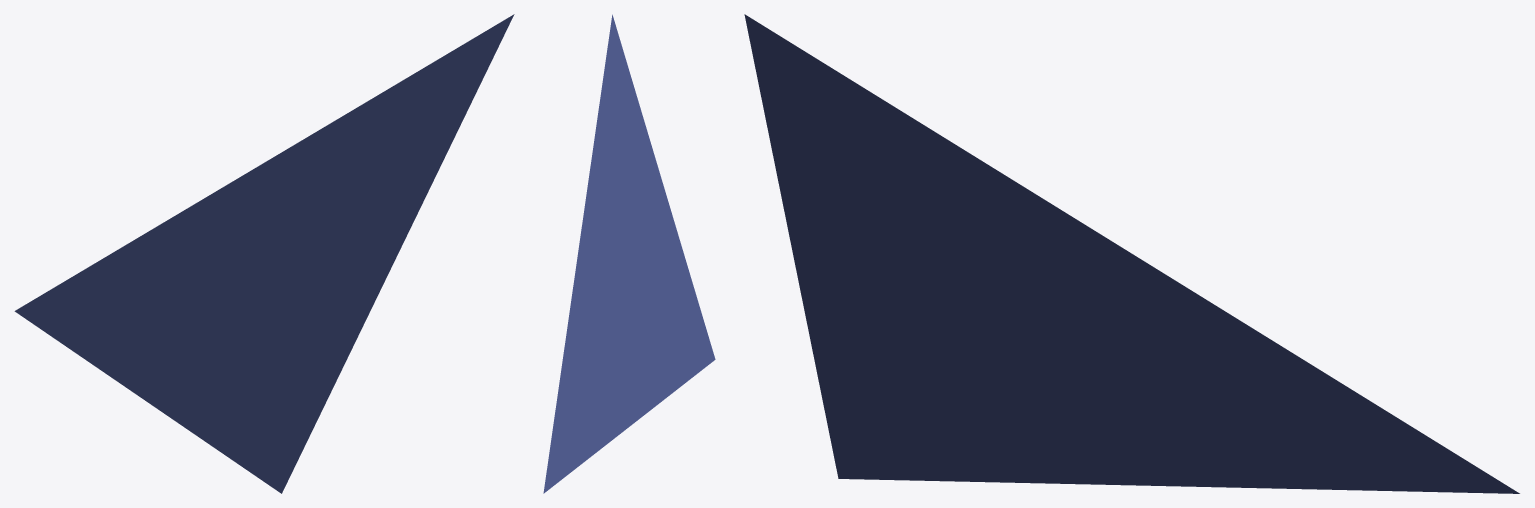
The model's file is Muscle_2_DoorGlass_FL.fbx.
3 renders of one model, left to right at view 1: azimuth 30°, elevation 25°; view 2: azimuth 150°, elevation 25°; view 3: azimuth 270°, elevation 25°, orthographic. The views are drawn at different scales.
Parts seen in each view (by area): view 1: Muscle_2_DoorGlass_FL; view 2: Muscle_2_DoorGlass_FL; view 3: Muscle_2_DoorGlass_FL.
Part boxes in pixels (x1,y1,x2,y2): Muscle_2_DoorGlass_FL: (14, 14, 514, 493); Muscle_2_DoorGlass_FL: (543, 14, 715, 493); Muscle_2_DoorGlass_FL: (744, 14, 1519, 493).
Bounding box in the file's own units: 12.22 × 27.95 × 32.61.
